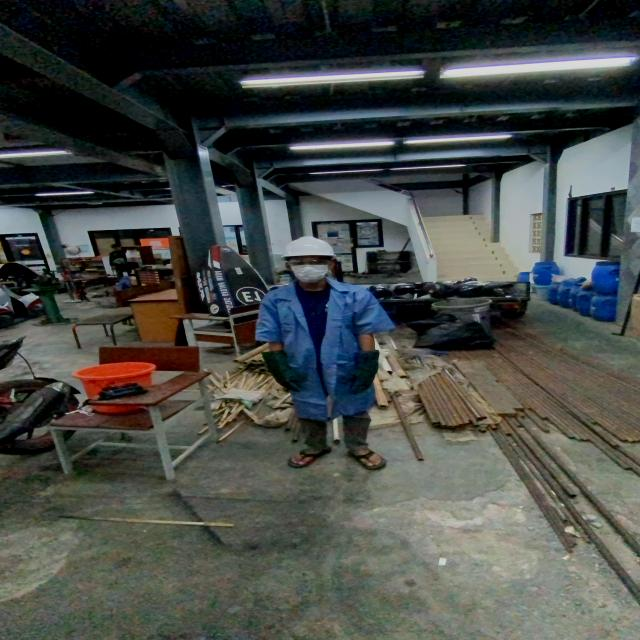face_mask: (281, 256, 335, 283)
glasses: (286, 257, 332, 268)
hand_glove: (340, 368, 381, 394), (268, 368, 308, 394)
head_helmet: (283, 234, 336, 258)
person: (250, 234, 398, 478)
